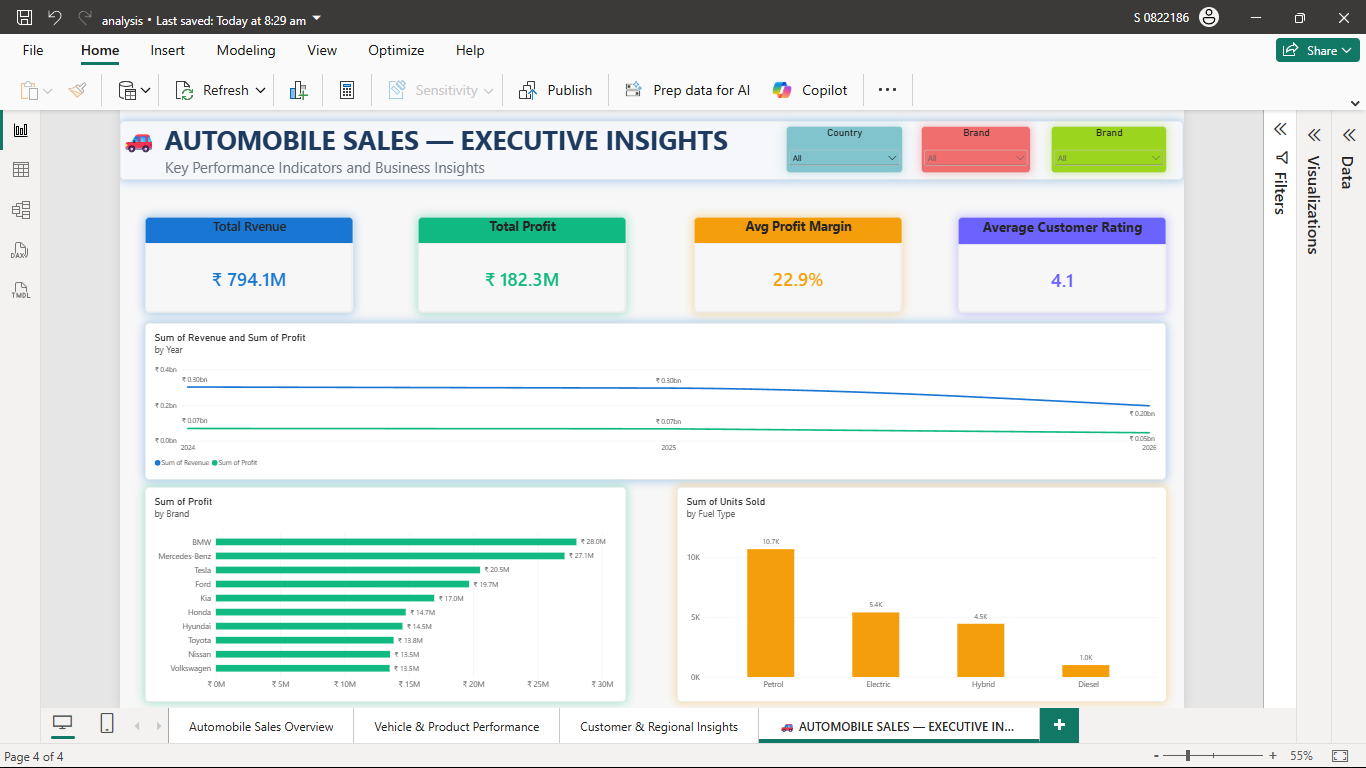

What the dashboard file says about the page in this screenshot:
{"tool":"powerbi","page":{"name":"🚗 AUTOMOBILE SALES — EXECUTIVE INSIGHTS","canvas":[1920,1080],"ordinal":3},"visuals":[{"type":"textbox","box":[0,19.7,1919.6,106.4],"z":0},{"type":"slicer","title":"Brand","fields":{"Values":["Automobile_Sales_Analytics_Dataset_15000_Rows.Year"]},"box":[1681.1,29.6,208.5,84.6],"z":1000},{"type":"slicer","title":"Brand","fields":{"Values":["Automobile_Sales_Analytics_Dataset_15000_Rows.Brand"]},"box":[1446.6,29.6,198.2,84.6],"z":2000},{"type":"slicer","title":"Country","fields":{"Values":["Automobile_Sales_Analytics_Dataset_15000_Rows.Country"]},"box":[1202.2,29.6,210.6,84.6],"z":3000},{"type":"cardVisual","title":"Total Rvenue","fields":{"Data":["Sum(Automobile_Sales_Analytics_Dataset_15000_Rows.Revenue)"]},"box":[45.4,194.1,375.7,173.4],"z":4000},{"type":"cardVisual","title":"Average Customer Rating","fields":{"Data":["Avg(Automobile_Sales_Analytics_Dataset_15000_Rows.Customer Rating)"]},"box":[1513.3,194.1,375.7,173.4],"z":5000},{"type":"cardVisual","title":"Avg Profit Margin","fields":{"Data":["Avg(Automobile_Sales_Analytics_Dataset_15000_Rows.Profit Margin)"]},"box":[1036.4,194.1,375.7,173.4],"z":6000},{"type":"cardVisual","title":"Total Profit","fields":{"Data":["Sum(Automobile_Sales_Analytics_Dataset_15000_Rows.Profit)"]},"box":[538.8,194.1,375.7,173.4],"z":7000},{"type":"lineChart","fields":{"Category":["Automobile_Sales_Analytics_Dataset_15000_Rows.Year"],"Y":["Sum(Automobile_Sales_Analytics_Dataset_15000_Rows.Revenue)","Sum(Automobile_Sales_Analytics_Dataset_15000_Rows.Profit)"]},"box":[45.4,384,1843.6,282.8],"z":7001},{"type":"clusteredBarChart","fields":{"Category":["Automobile_Sales_Analytics_Dataset_15000_Rows.Brand"],"Y":["Sum(Automobile_Sales_Analytics_Dataset_15000_Rows.Profit)"]},"box":[45.4,681.3,869.2,388.1],"z":7002},{"type":"clusteredColumnChart","fields":{"Category":["Automobile_Sales_Analytics_Dataset_15000_Rows.Fuel Type"],"Y":["Sum(Automobile_Sales_Analytics_Dataset_15000_Rows.Units Sold)"]},"box":[1005.4,681.3,883.6,388.1],"z":7003}]}

Visuals, with their boxes on the page's 1920x1080 design canvas (x1, y1, x2, y2). These are canvas units, not pixel positions in the 1366x768 screenshot, which may show the page scaled, cropped or inside an application window:
textbox: 0:20:1920:126
"Brand" slicer: 1681:30:1890:114
"Brand" slicer: 1447:30:1645:114
"Country" slicer: 1202:30:1413:114
"Total Rvenue" cardVisual: 45:194:421:368
"Average Customer Rating" cardVisual: 1513:194:1889:368
"Avg Profit Margin" cardVisual: 1036:194:1412:368
"Total Profit" cardVisual: 539:194:914:368
lineChart - Automobile_Sales_Analytics_Dataset_15000_Rows.Year x Sum(Automobile_Sales_Analytics_Dataset_15000_Rows.Revenue): 45:384:1889:667
clusteredBarChart - Automobile_Sales_Analytics_Dataset_15000_Rows.Brand x Sum(Automobile_Sales_Analytics_Dataset_15000_Rows.Profit): 45:681:915:1069
clusteredColumnChart - Automobile_Sales_Analytics_Dataset_15000_Rows.Fuel Type x Sum(Automobile_Sales_Analytics_Dataset_15000_Rows.Units Sold): 1005:681:1889:1069
